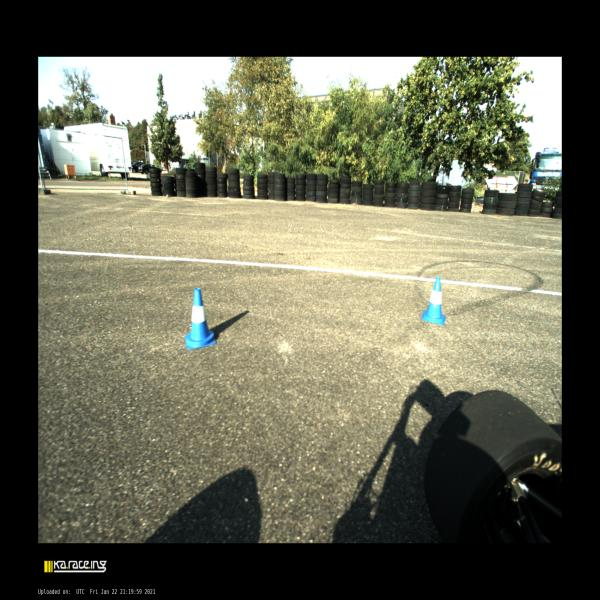blue_cone: (185, 288, 216, 349), (421, 277, 446, 325)
